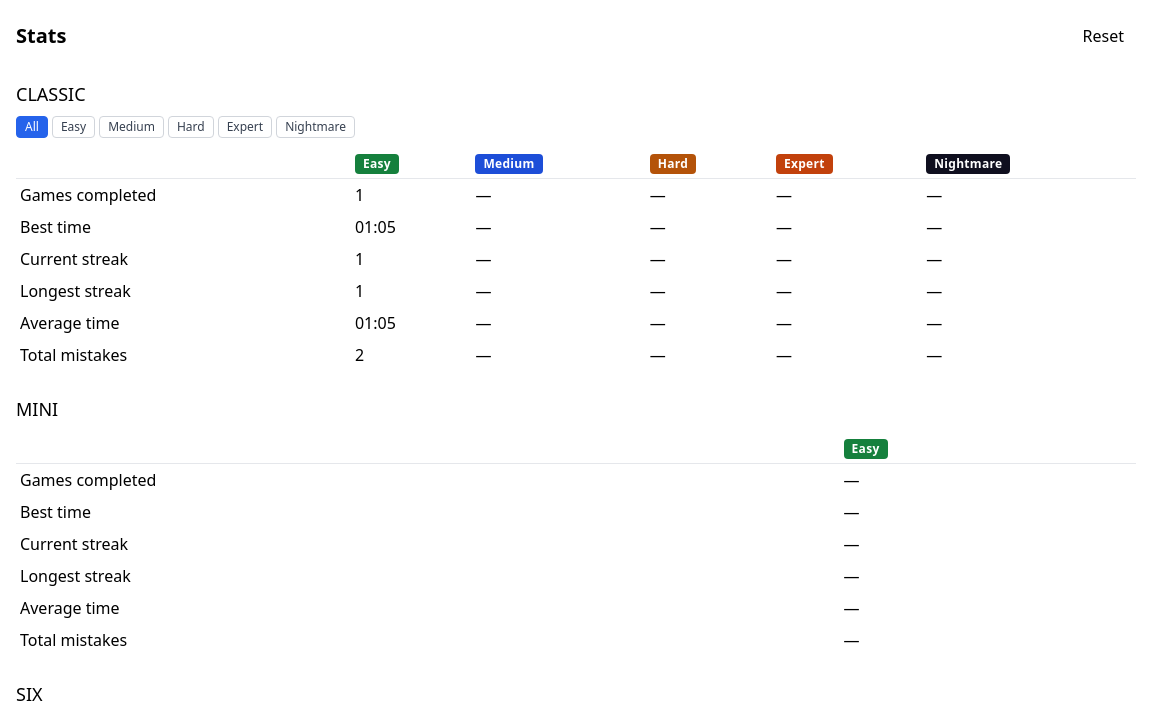
Stats screen › resets stats after click-then-confirm
The width and height of the screenshot is (1152, 720).
Click the button with test id "stats-reset". click: (1103, 36)
box: [1070,16,1136,56]
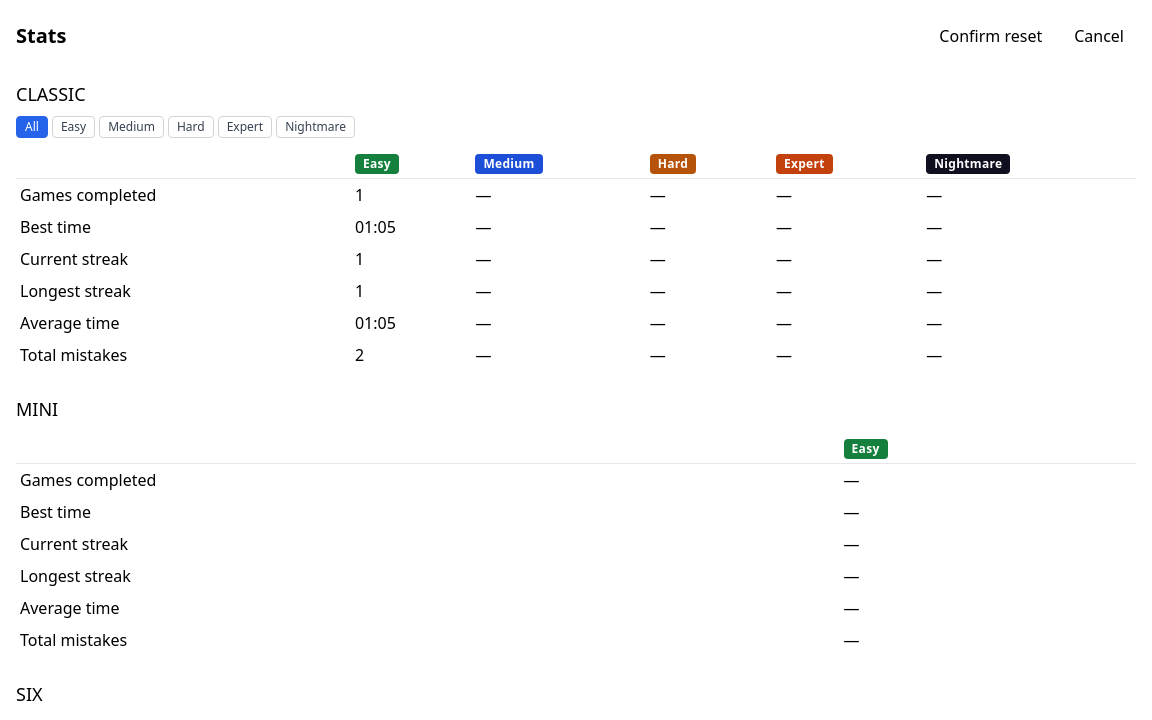
Click the button with test id "stats-reset-confirm". click: (991, 36)
box: [927,16,1054,56]
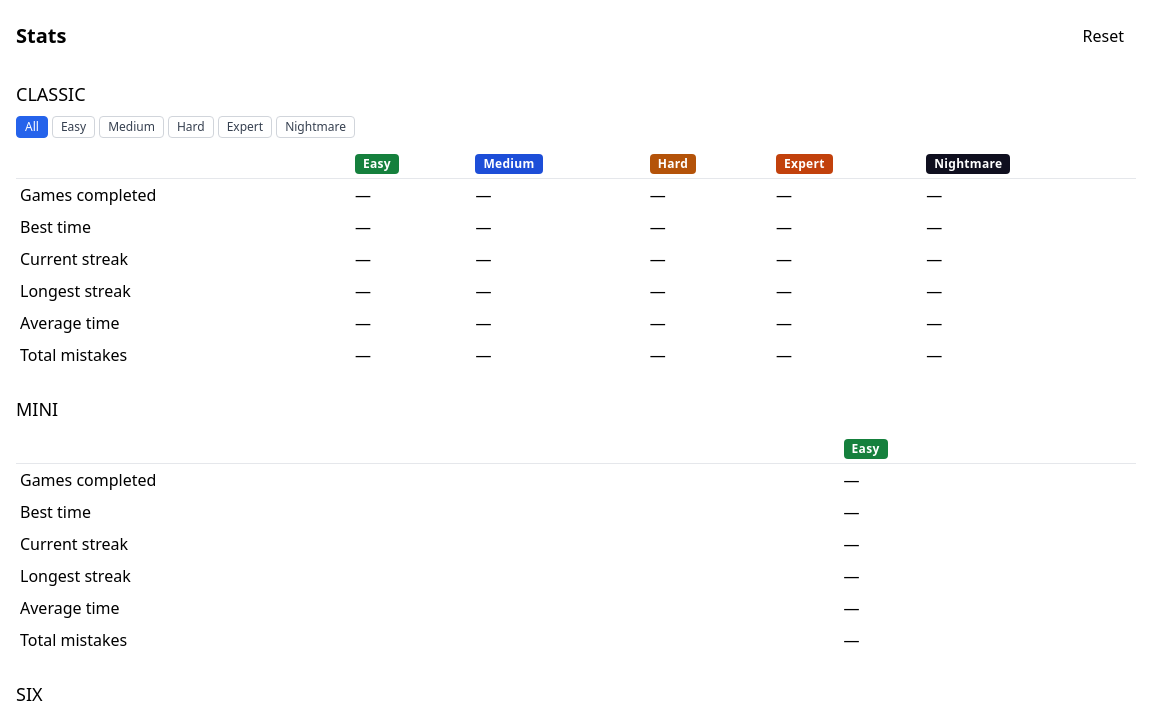
Expected: the cell with test id "stats-cell-classic-easy-games" reads "—", [355,184,371,206]
Expected: the cell with test id "stats-cell-classic-easy-best" reads "—", [355,216,371,238]
Expected: the cell with test id "stats-cell-classic-easy-avg" reads "—", [355,312,371,334]
